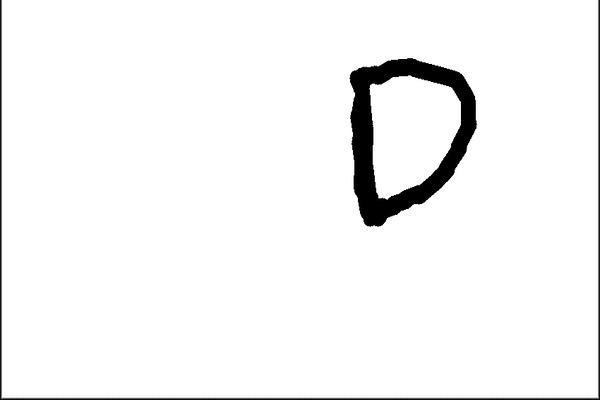D: (344, 48, 484, 233)
